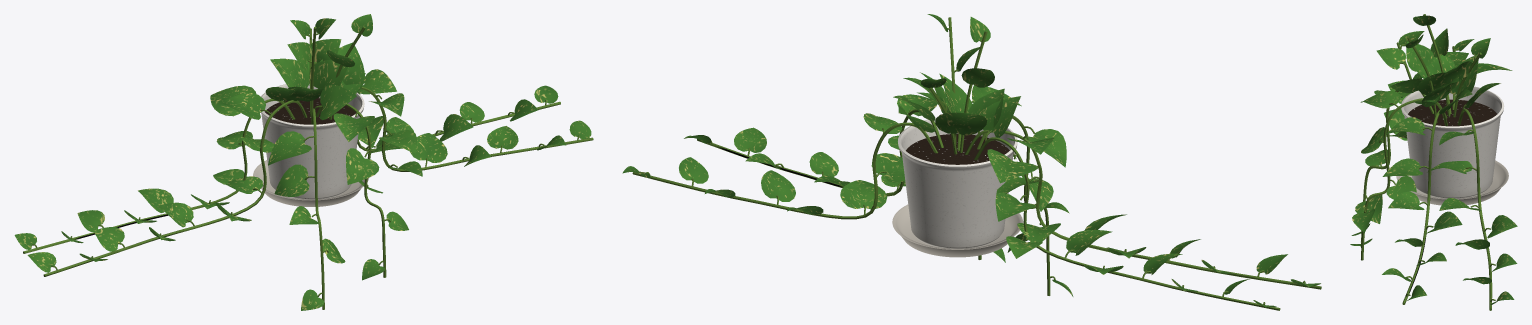
File: SM_Plant.glb
3 renders of one model, left to right at view 1: azimuth 30°, elevation 25°; view 2: azimuth 150°, elevation 25°; view 3: azimuth 270°, elevation 25°, orthographic. The views are drawn at different scales.
Parts seen in each view (by area): view 1: SM_Plant; view 2: SM_Plant; view 3: SM_Plant.
Part boxes in pixels (x1,y1,x2,y2): SM_Plant: (14, 14, 593, 310); SM_Plant: (622, 14, 1321, 310); SM_Plant: (1350, 14, 1517, 310).
Size of the model in its own units: 0.7433 by 0.3239 by 0.1967.
5 materials, 5 textured.
